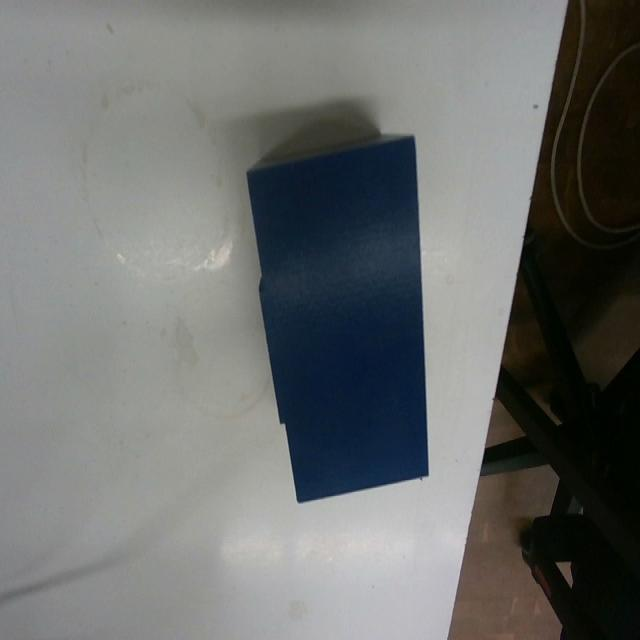Blue Cuboid: (243, 129, 432, 504)
